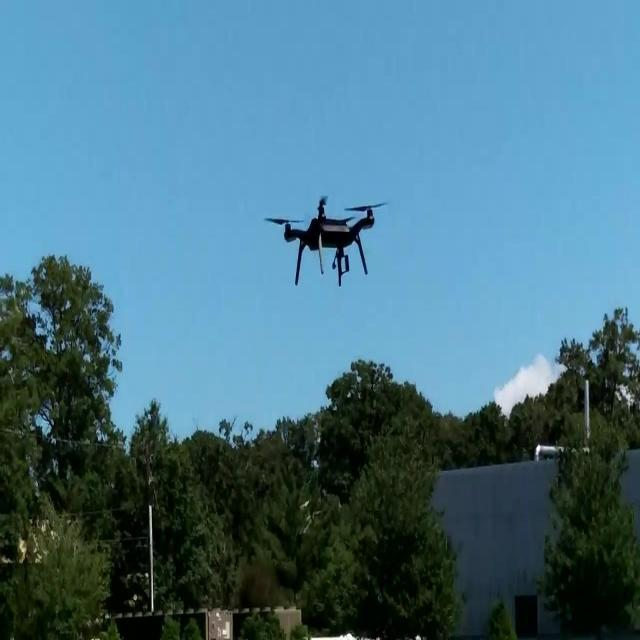drone: (266, 193, 390, 286)
